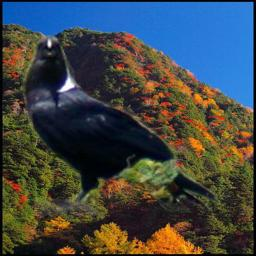Crow: (21, 35, 222, 216)
